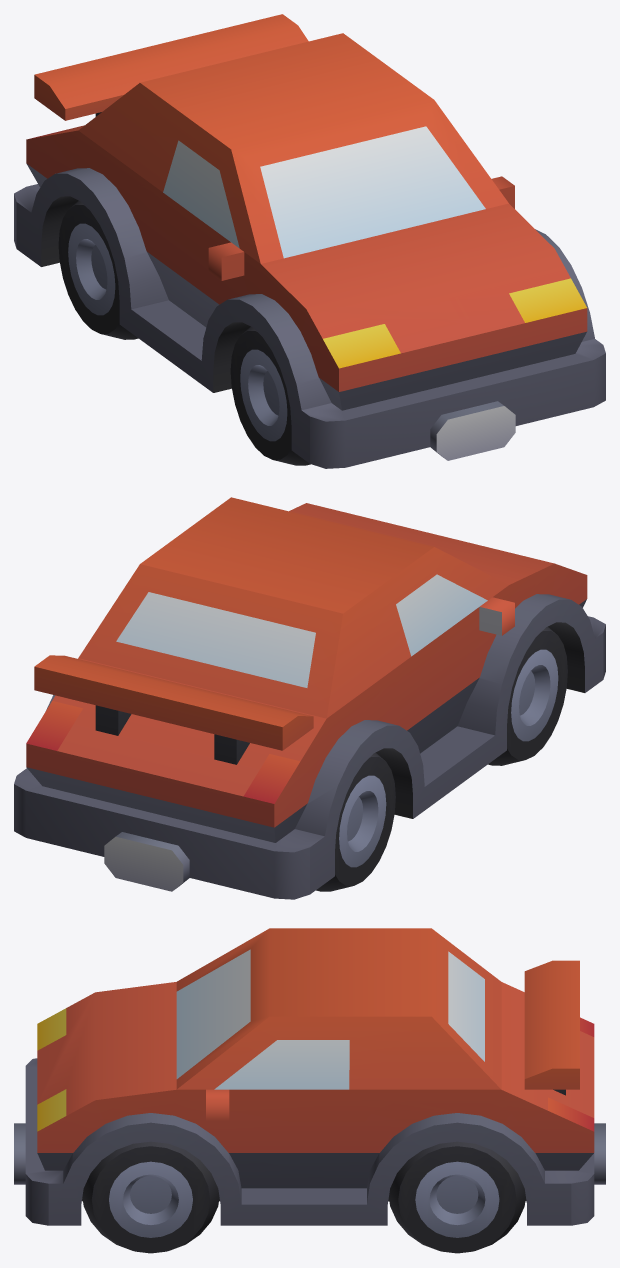
File: sedan-sports.glb
The picture shows the model from 3 angles, top to bottom: view 1: azimuth 30°, elevation 25°; view 2: azimuth 150°, elevation 25°; view 3: azimuth 270°, elevation 25°; orthographic projection. The views are drawn at different scales.
Parts seen in each view (by area): view 1: body, spoiler, wheel-back-right, wheel-front-right; view 2: body, spoiler, wheel-back-right, wheel-front-right; view 3: body, wheel-front-left, wheel-back-left, spoiler.
Boxes of the visible parts, x1=… form: body: x1=14, y1=33, x2=605, y2=468; spoiler: x1=34, y1=14, x2=308, y2=120; wheel-back-right: x1=58, y1=200, x2=138, y2=339; wheel-front-right: x1=230, y1=326, x2=310, y2=465; body: x1=14, y1=497, x2=605, y2=899; spoiler: x1=34, y1=655, x2=313, y2=764; wheel-back-right: x1=316, y1=752, x2=395, y2=891; wheel-front-right: x1=488, y1=626, x2=567, y2=765; body: x1=14, y1=928, x2=605, y2=1225; wheel-front-left: x1=82, y1=1141, x2=219, y2=1253; wheel-back-left: x1=389, y1=1141, x2=525, y2=1253; spoiler: x1=524, y1=960, x2=579, y2=1095.
Size of the model in its own units: 1.3 by 1.1 by 2.55.
